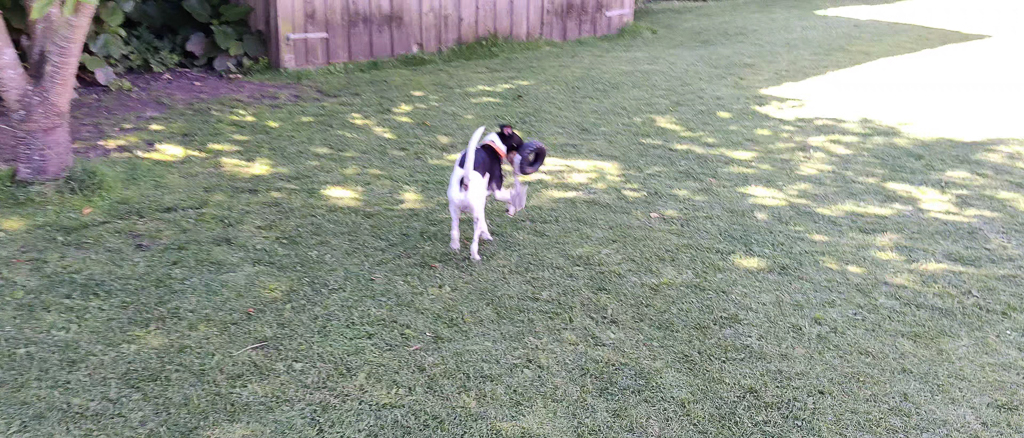Dog: (437, 109, 550, 271)
